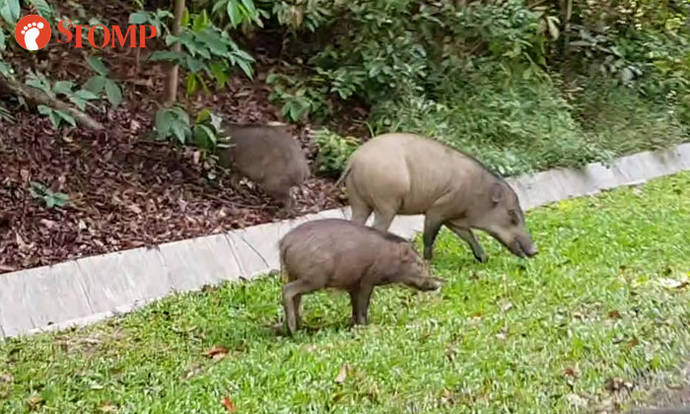boar: (333, 128, 545, 264), (274, 216, 442, 339)
